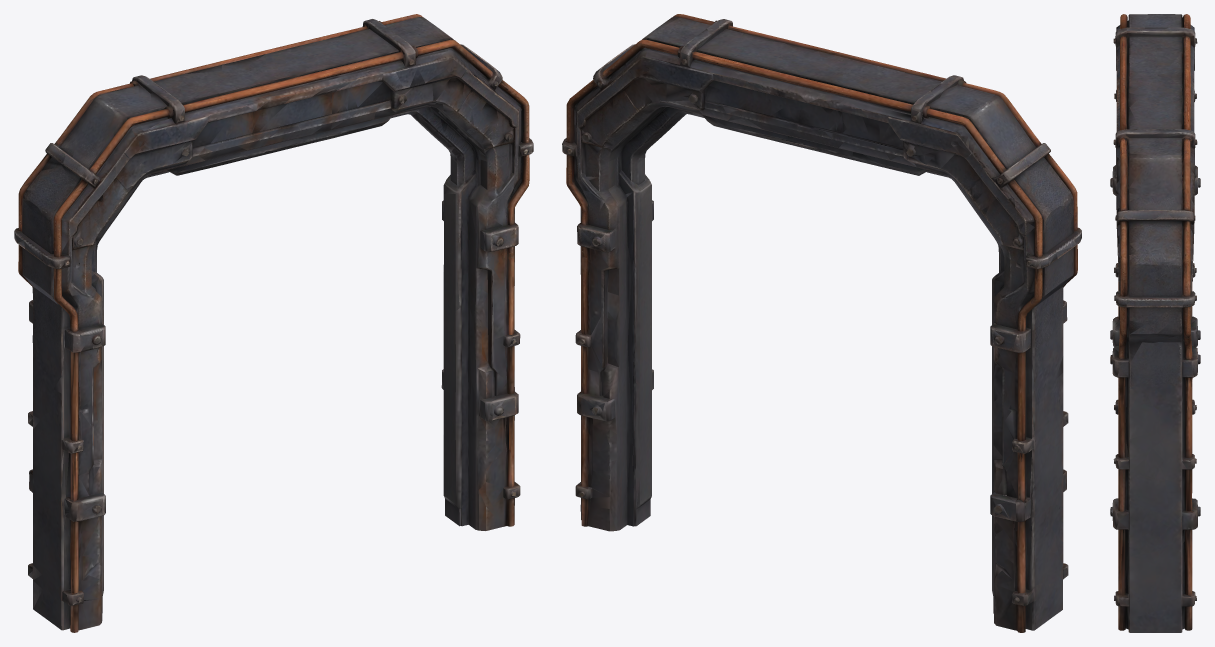
Rendered from SignalArch.glb.
The picture shows the model from 3 angles, left to right: view 1: azimuth 30°, elevation 25°; view 2: azimuth 150°, elevation 25°; view 3: azimuth 270°, elevation 25°; orthographic projection. The views are drawn at different scales.
Parts seen in each view (by area): view 1: tripo_node_e1c108e4-19b5-4ab0-8e5d-bb20db1a601a; view 2: tripo_node_e1c108e4-19b5-4ab0-8e5d-bb20db1a601a; view 3: tripo_node_e1c108e4-19b5-4ab0-8e5d-bb20db1a601a.
Part boxes in pixels (left/top/right/bottom): tripo_node_e1c108e4-19b5-4ab0-8e5d-bb20db1a601a: left=14, top=14, right=533, bottom=632; tripo_node_e1c108e4-19b5-4ab0-8e5d-bb20db1a601a: left=562, top=14, right=1081, bottom=632; tripo_node_e1c108e4-19b5-4ab0-8e5d-bb20db1a601a: left=1110, top=14, right=1200, bottom=632.
Bounding box in the file's own units: 0.9791 × 0.9725 × 0.1758.
1 material, 1 textured.
